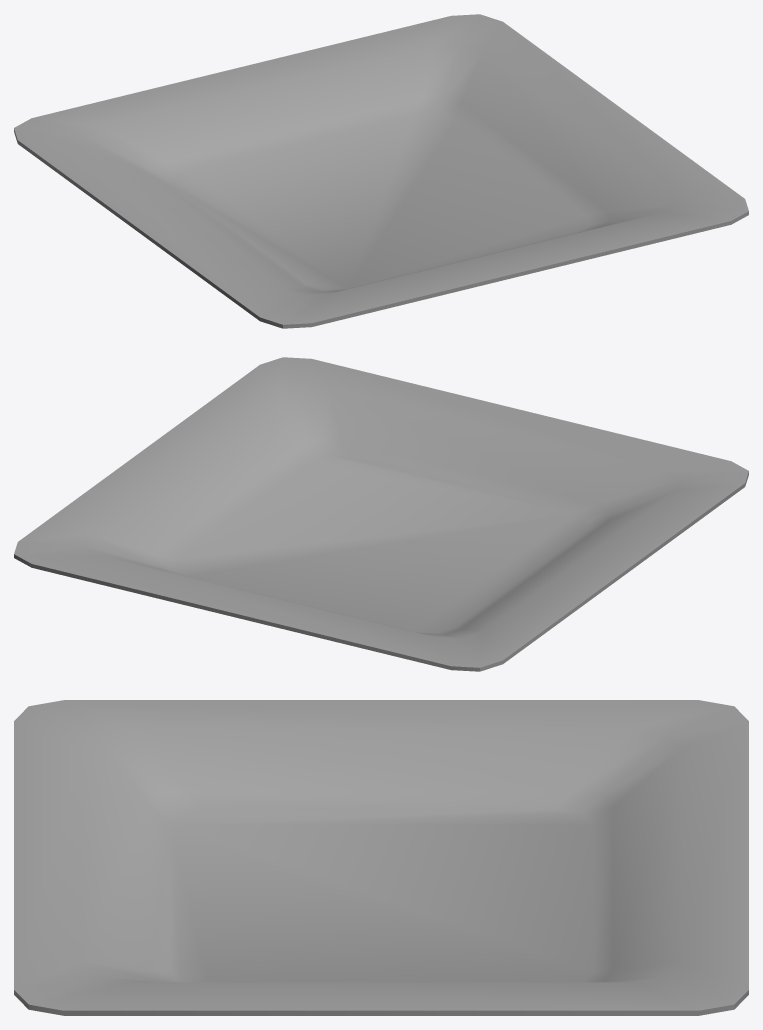
The model's file is Plate_2.glb.
The picture shows the model from 3 angles, top to bottom: view 1: azimuth 30°, elevation 25°; view 2: azimuth 150°, elevation 25°; view 3: azimuth 270°, elevation 25°; orthographic projection. The views are drawn at different scales.
Visible parts, largest first — view 1: Plate_2; view 2: Plate_2; view 3: Plate_2.
Boxes of the visible parts, bbox=[...] form: Plate_2: bbox=[14, 14, 748, 328]; Plate_2: bbox=[14, 357, 748, 671]; Plate_2: bbox=[14, 700, 748, 1015].
Bounding box in the file's own units: 0.1721 × 0.0122 × 0.1721.
1 material, 1 textured.
